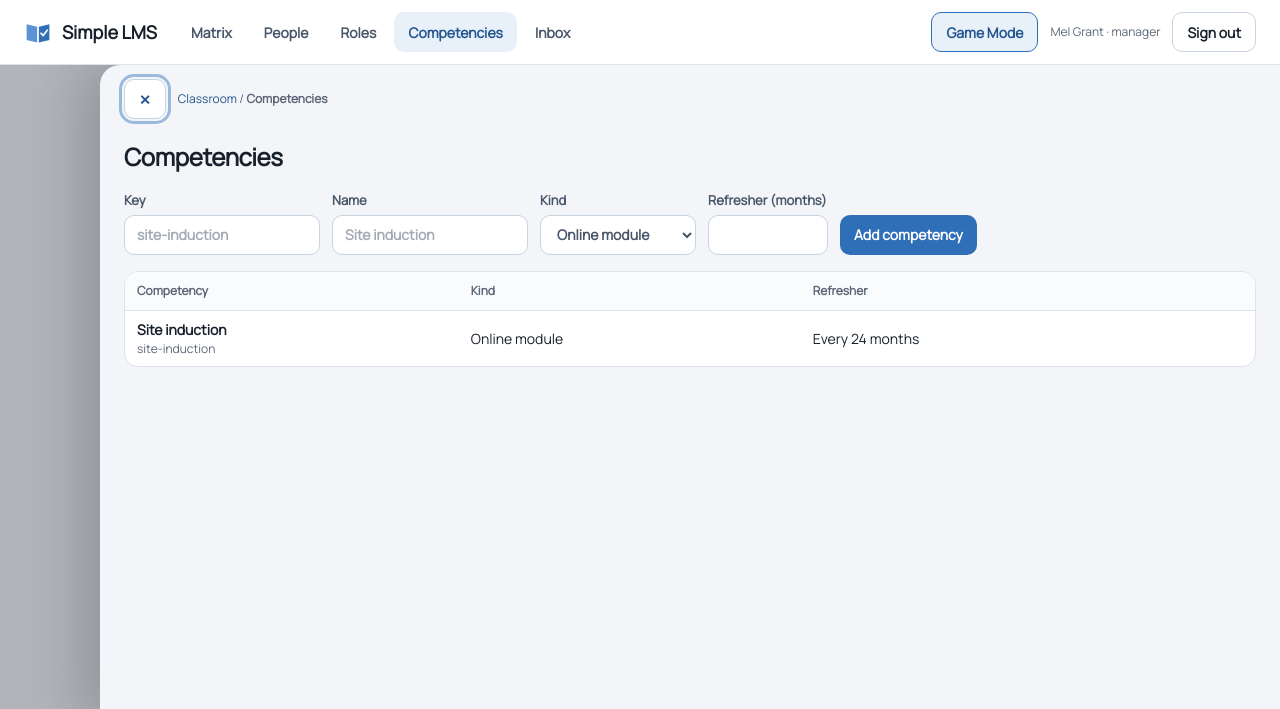
Test: a module's pages and quiz › says plainly when someone else saved the draft meanwhile, and reloads it
Click the button "Site induction site-induction". click: (182, 338)
box: top-left (137, 318), bottom-right (227, 358)
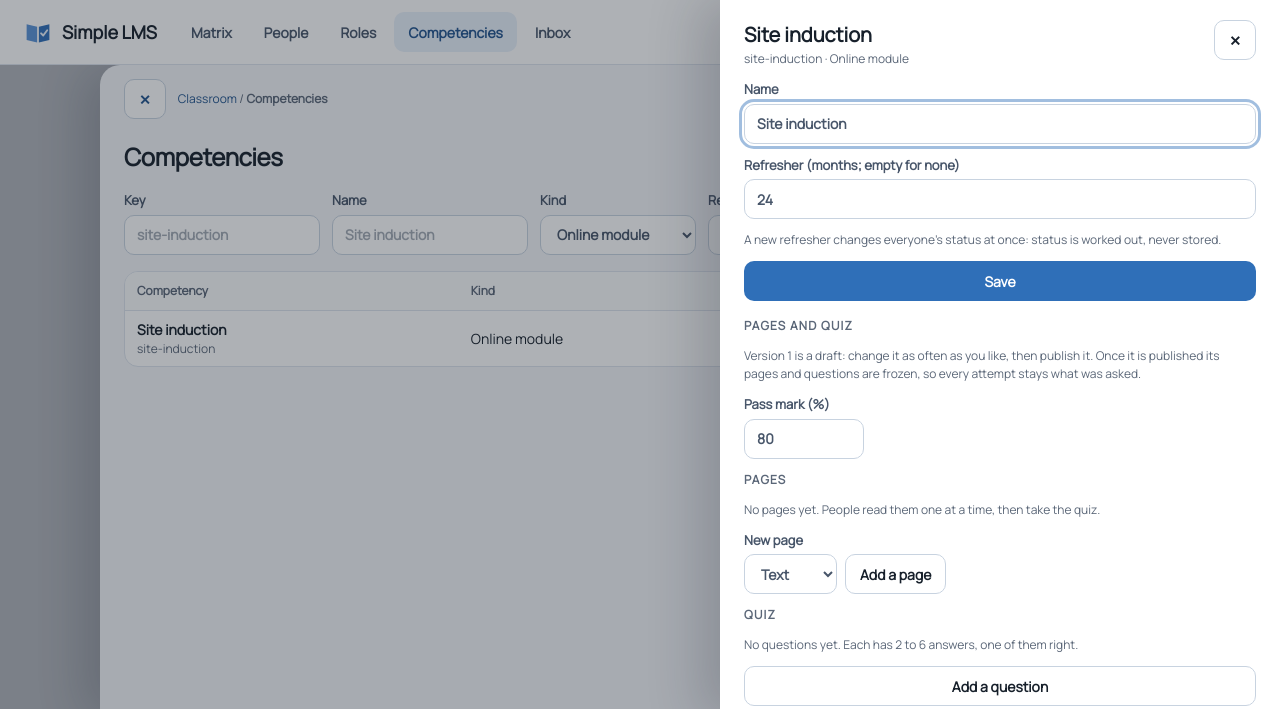
Check: the text "Version 1 is a draft" is shown, box top-left (744, 347), bottom-right (1256, 383)
Replace the text in the number field labelled "Pass mark (%)" with "70". click: (804, 438)
box: top-left (744, 418), bottom-right (864, 458)
(page scrolled)
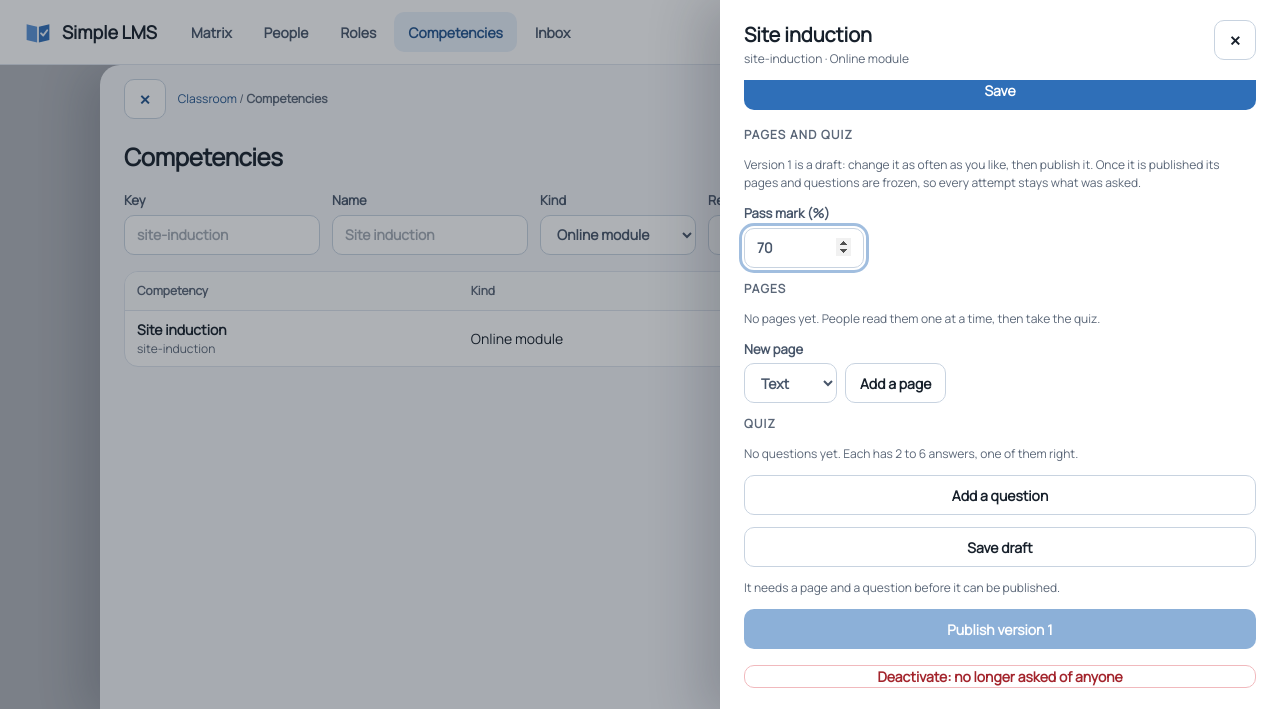
Click the button "Save draft". click: (1000, 547)
box: top-left (744, 527), bottom-right (1256, 567)
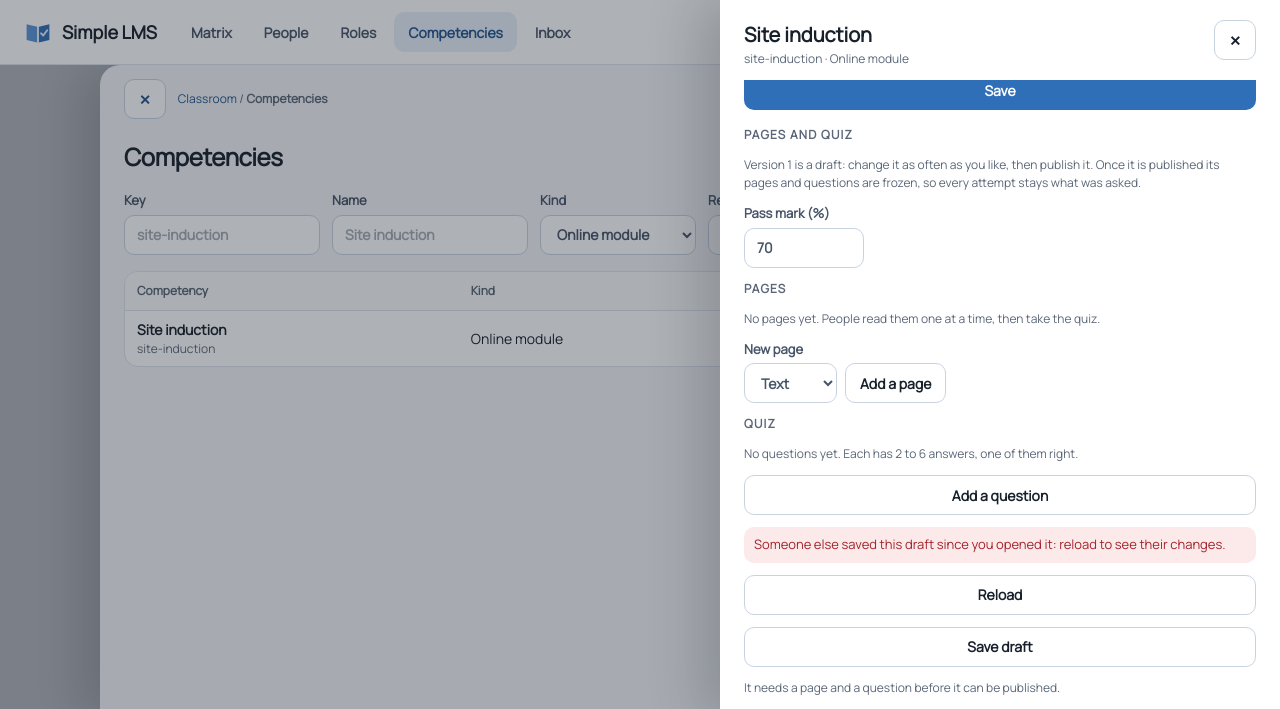
Check: the message shows "Someone else saved this draft since you opened it: reload to see their changes", box top-left (754, 535), bottom-right (1226, 553)
Click the button "Reload". click: (1000, 594)
box: top-left (744, 574), bottom-right (1256, 614)
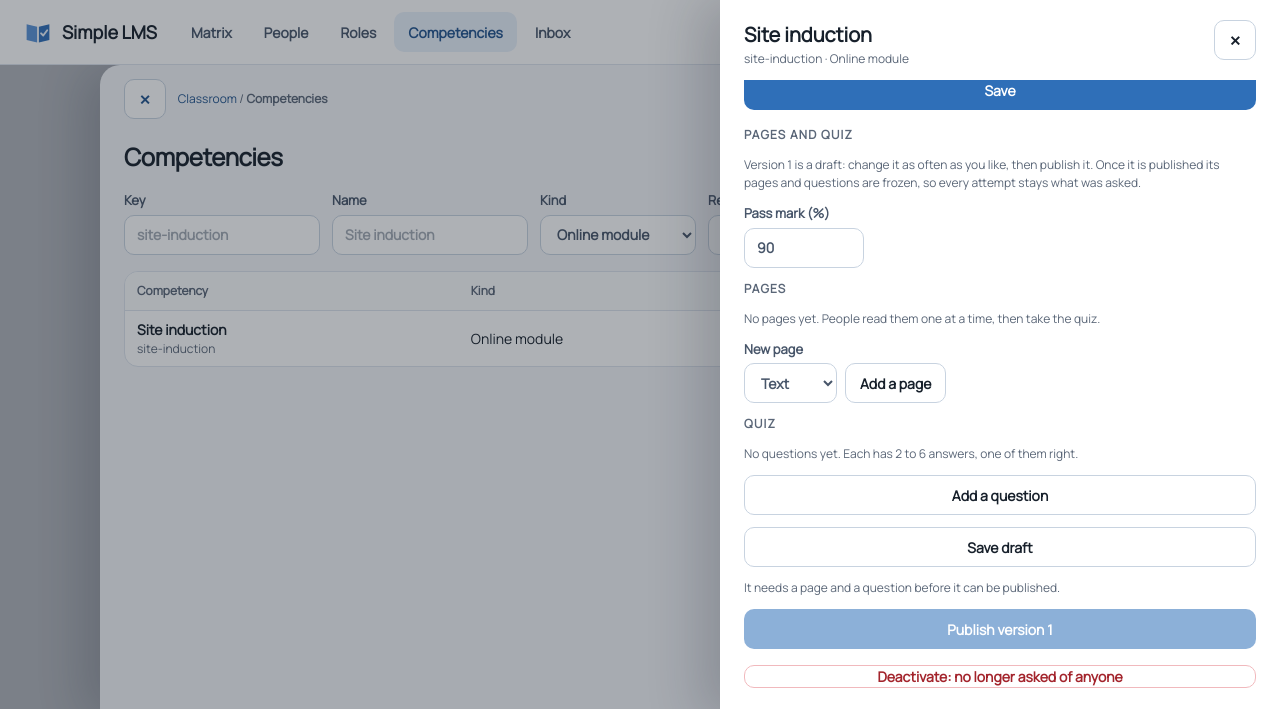
Check: the number field labelled "Pass mark (%)" holds "90", box top-left (744, 228), bottom-right (864, 268)
Check: the message "Someone else saved this draft since you opened it: reload to see their changes." is gone
